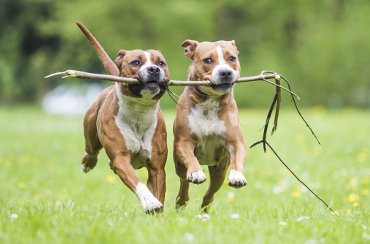dog: (69, 26, 174, 215), (173, 37, 254, 208)
